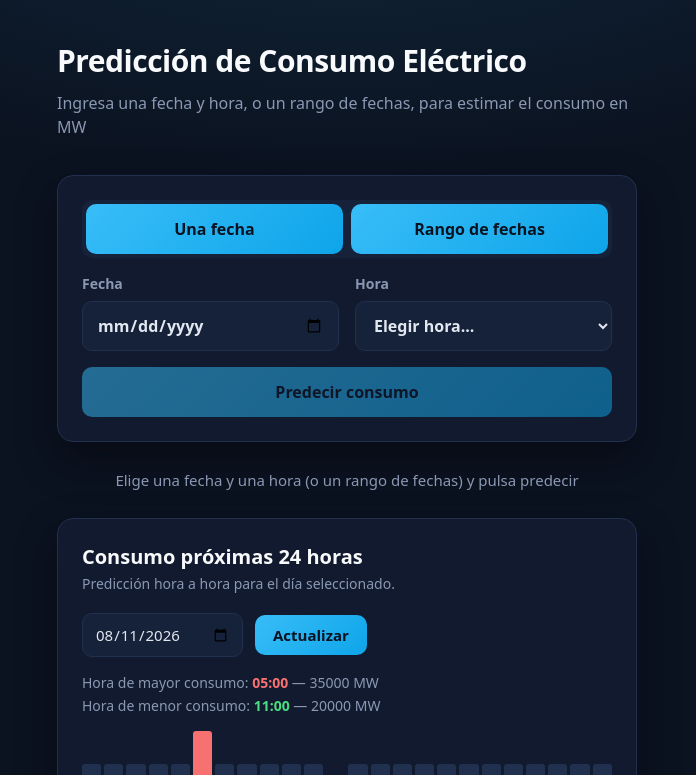
App (simulación de UI) › muestra el resultado tras llenar fecha y hora
Type "2026-08-11" into the date field labelled "Fecha".
click(210, 326); type("2026-08-11")  # box x1=82 y1=301 x2=339 y2=351
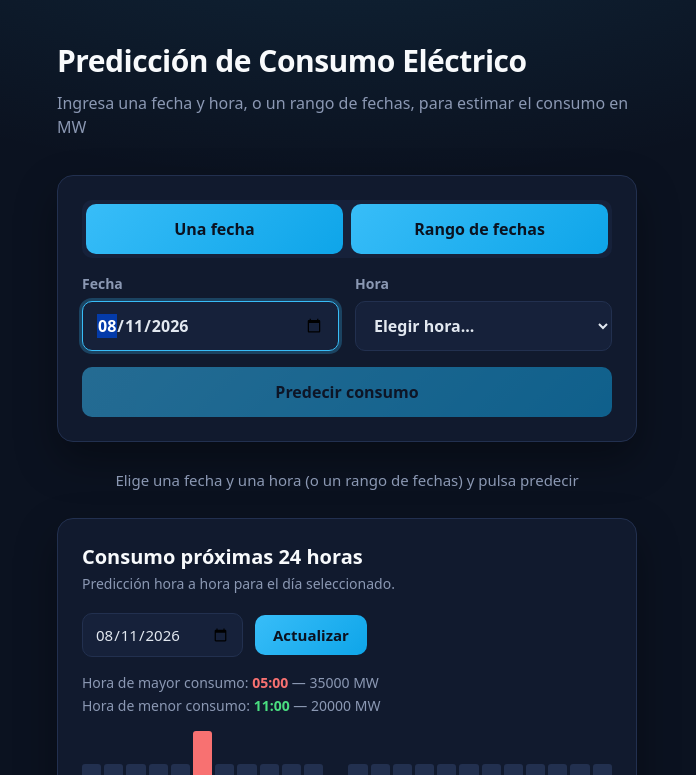
Select "14:00" in the dropdown labelled "Hora" at {"x": 484, "y": 326}, box x1=355 y1=301 x2=612 y2=351
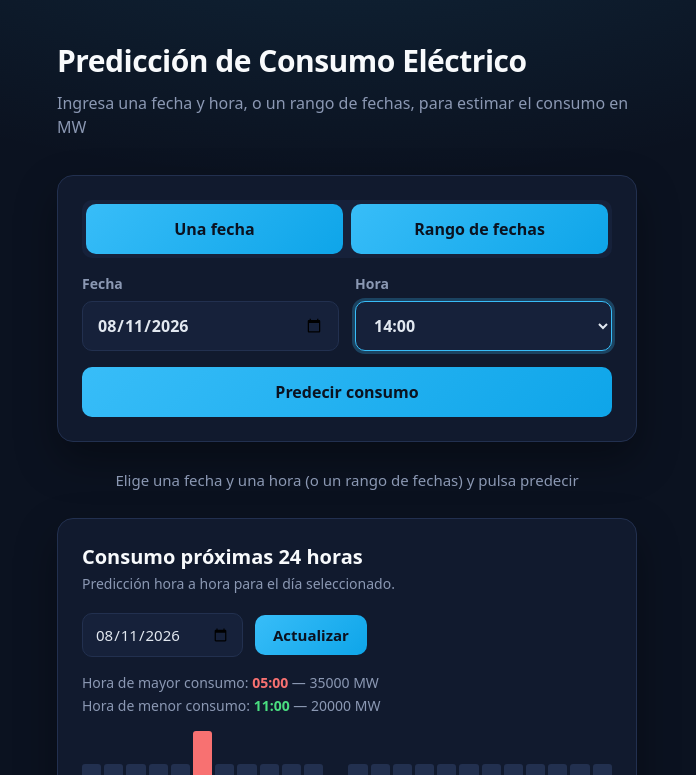
Check: the button "Predecir consumo" is enabled
Click the button "Predecir consumo".
click(347, 392)  # box x1=82 y1=367 x2=612 y2=417
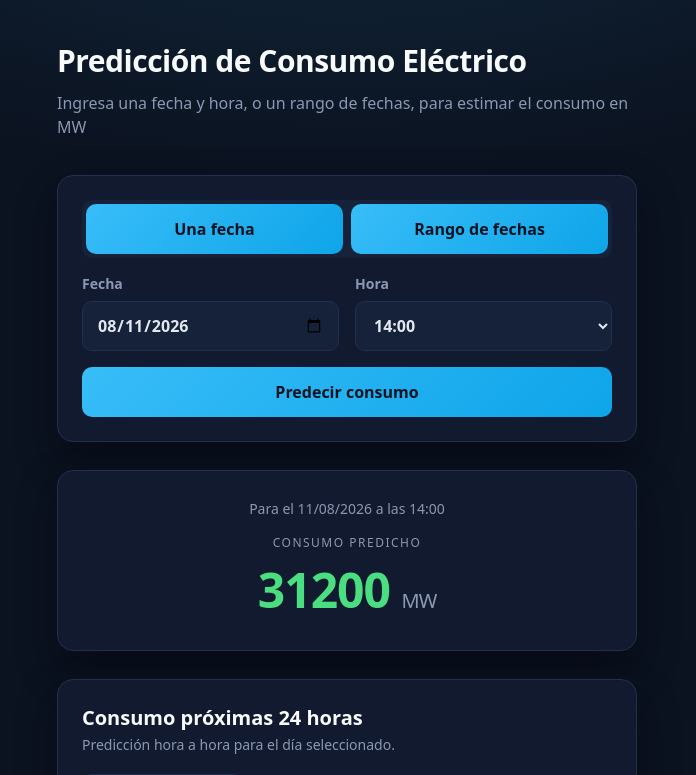
Check: the text "MW" is shown, box x1=402 y1=587 x2=436 y2=614
Check: the text "31200" is shown, box x1=258 y1=557 x2=390 y2=622
Check: the text "Para el 11/08/2026 a las 14:00" is shown, box x1=249 y1=499 x2=445 y2=518
